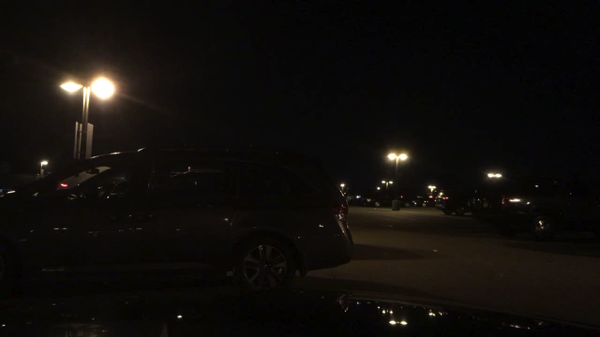car: (0, 142, 355, 294), (470, 176, 599, 241), (434, 188, 473, 216), (364, 191, 410, 208), (342, 187, 363, 205), (408, 194, 436, 207)
traffic sign: (75, 120, 95, 159)
